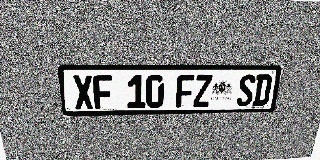0: (146, 75, 164, 108)
1: (127, 75, 145, 108)
D: (252, 74, 273, 106)
F: (92, 75, 113, 109), (176, 75, 195, 107)
S: (236, 74, 256, 106)
X: (72, 75, 94, 109)
Z: (193, 75, 212, 107)
